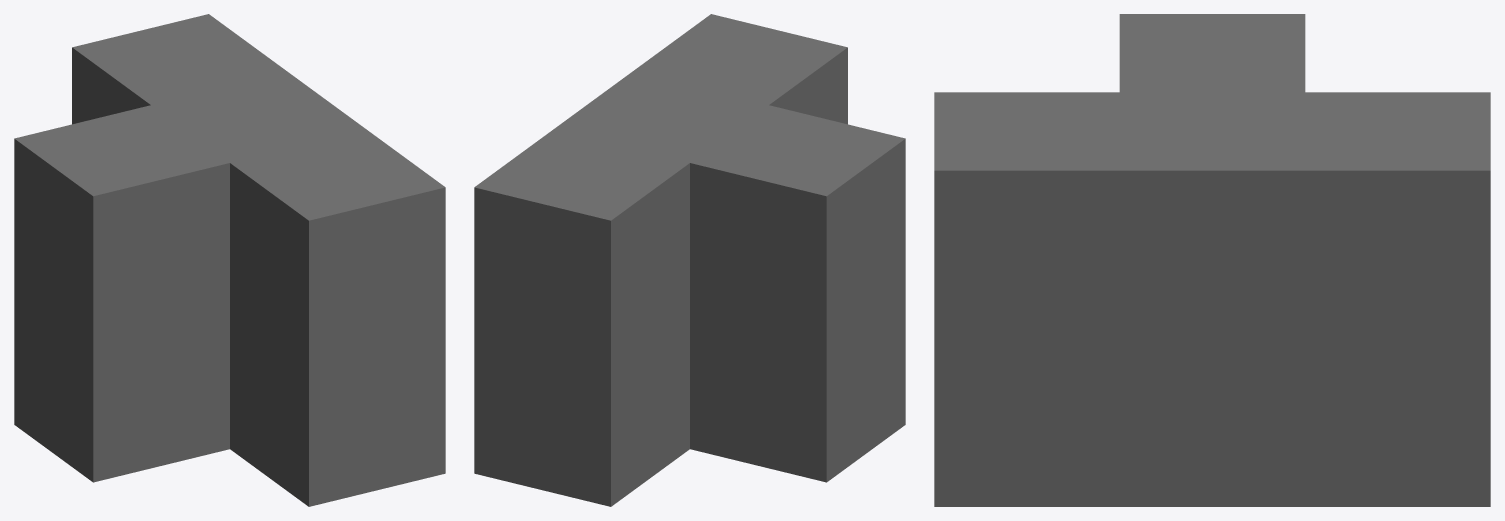
The model's file is pommel2.obj.
3 views of the same model, side by side, from view 1: azimuth 30°, elevation 25°; view 2: azimuth 150°, elevation 25°; view 3: azimuth 270°, elevation 25° (orthographic). The views are drawn at different scales.
Bounding box in the file's own units: 0.2 × 0.2 × 0.3.
1 material, 1 textured.
